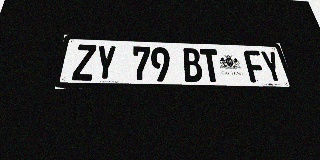7: (131, 46, 151, 81)
9: (151, 47, 171, 82)
B: (182, 48, 204, 82)
F: (243, 50, 268, 83)
T: (199, 49, 222, 82)
Y: (259, 51, 285, 83), (94, 45, 117, 81)
Z: (72, 44, 97, 81)
